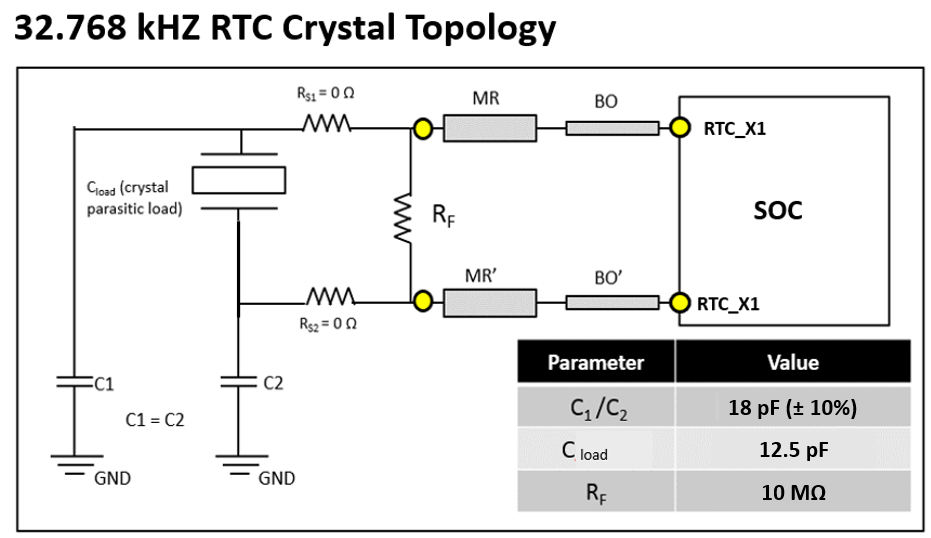capacitor: (50, 369, 97, 391), (214, 370, 261, 392)
circle: (409, 115, 434, 144), (411, 287, 435, 314), (668, 114, 692, 141), (668, 289, 692, 316)
crystal: (187, 144, 292, 217)
ground: (43, 445, 108, 477), (210, 446, 275, 478)
rectangle: (438, 285, 542, 321), (438, 110, 542, 146), (559, 116, 661, 140), (562, 291, 664, 315)
resistor: (388, 188, 418, 248), (295, 110, 361, 137), (298, 283, 364, 310)
